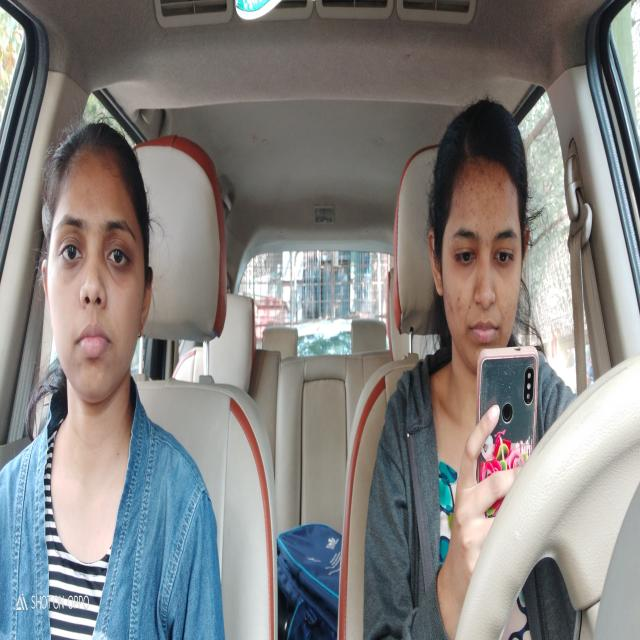mobile: (475, 340, 541, 522)
person: (39, 116, 155, 444), (427, 98, 547, 386)
